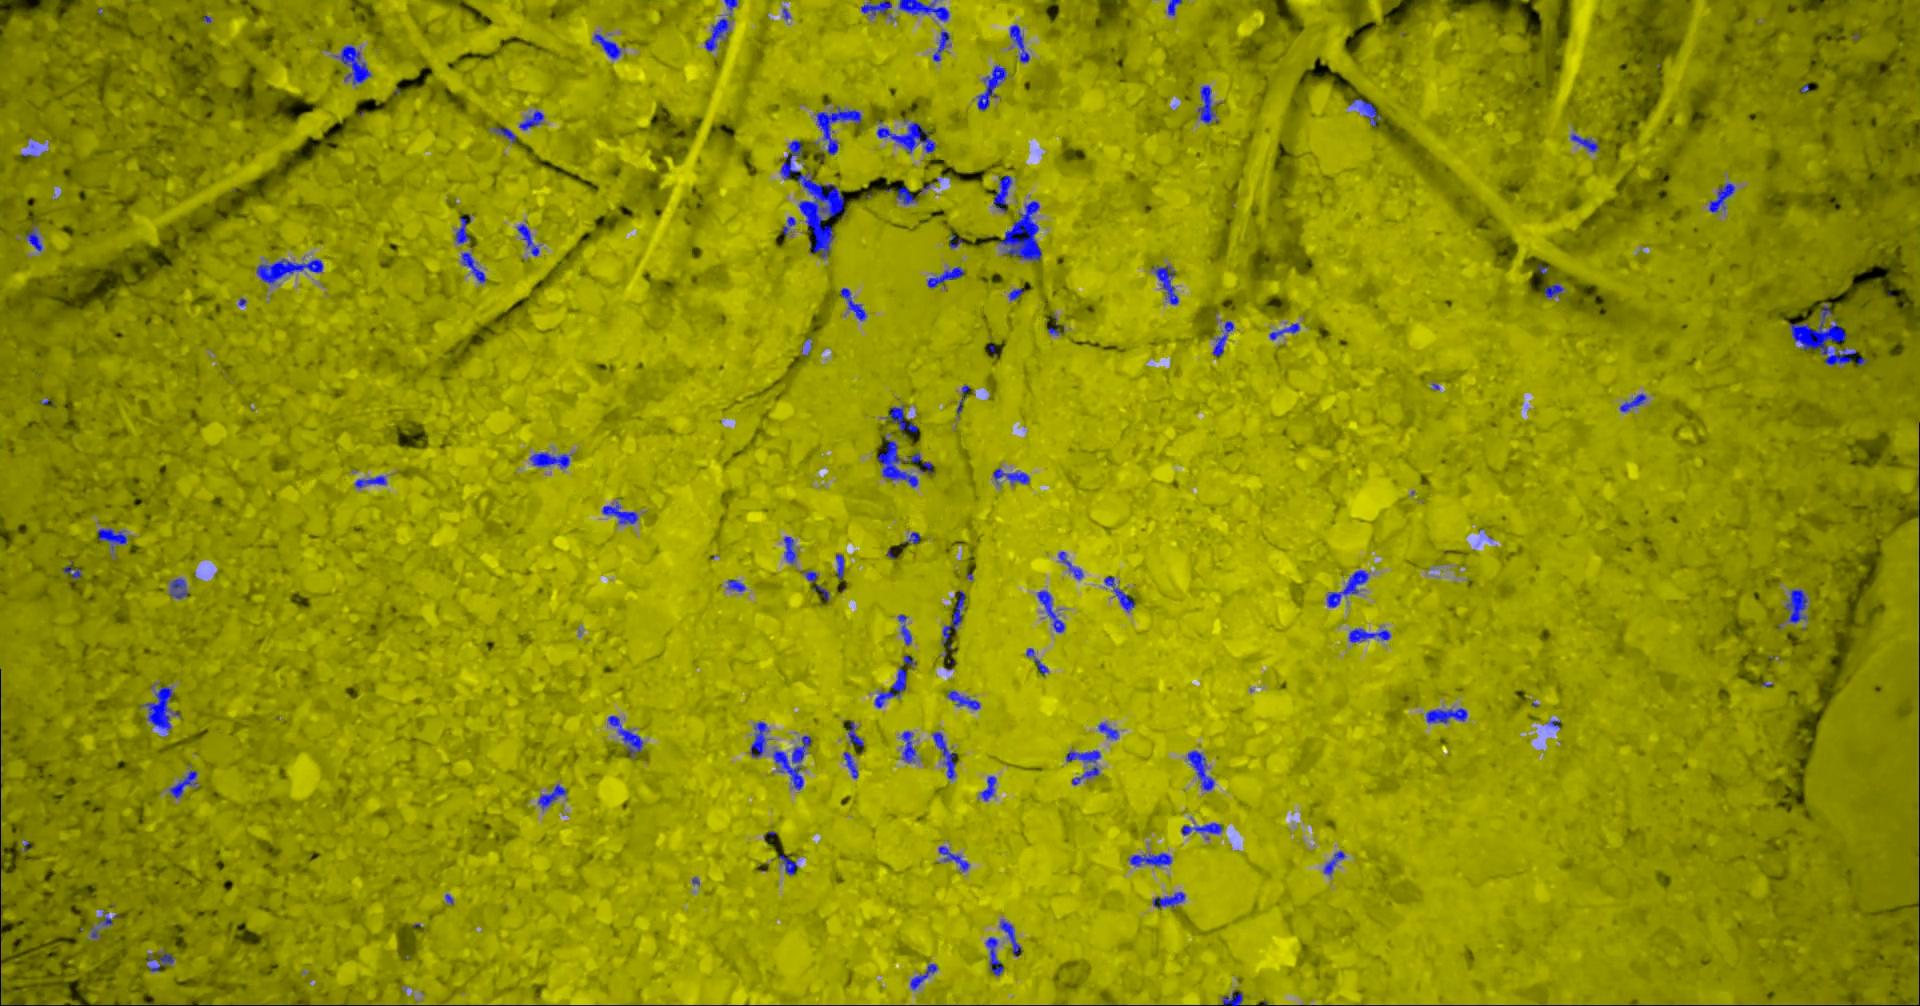ant: (817, 105, 863, 154), (879, 439, 923, 486), (775, 735, 813, 789), (877, 121, 937, 152), (141, 685, 182, 730), (258, 258, 324, 283), (1328, 569, 1370, 607), (337, 44, 373, 84), (610, 715, 644, 757), (978, 64, 1007, 111), (943, 591, 968, 645), (876, 667, 908, 708), (1067, 749, 1102, 784), (933, 730, 957, 779), (1039, 589, 1065, 633), (1189, 749, 1217, 790), (900, 0, 951, 22), (1105, 575, 1137, 610), (1153, 265, 1180, 304), (888, 405, 919, 434), (841, 287, 869, 320), (1351, 98, 1383, 126), (940, 845, 971, 871), (1001, 920, 1023, 956), (1199, 85, 1220, 123), (928, 265, 966, 287), (170, 770, 199, 798), (538, 782, 569, 809), (706, 18, 730, 51), (1011, 24, 1031, 62), (1710, 182, 1736, 212), (1214, 320, 1236, 356), (603, 502, 639, 523), (1787, 589, 1810, 622), (910, 963, 938, 989), (463, 251, 488, 282), (518, 224, 541, 255), (596, 33, 623, 58), (98, 528, 128, 551), (987, 937, 1004, 976), (1060, 551, 1084, 579), (996, 175, 1013, 212), (1427, 708, 1469, 723), (752, 721, 770, 757), (949, 690, 982, 709), (531, 452, 571, 467), (1154, 890, 1186, 909), (1130, 852, 1173, 866), (1350, 627, 1392, 641), (994, 467, 1031, 483), (1324, 850, 1347, 874), (1270, 323, 1302, 339), (1183, 822, 1224, 835), (1622, 392, 1648, 412), (149, 951, 175, 970), (935, 30, 951, 61), (1572, 133, 1600, 151), (902, 730, 917, 762), (456, 216, 472, 245), (862, 0, 893, 15), (521, 111, 545, 130), (25, 226, 43, 251), (957, 384, 971, 414), (899, 614, 913, 644), (982, 775, 998, 800), (495, 126, 518, 144), (844, 751, 858, 779), (898, 185, 918, 205), (850, 720, 865, 746), (780, 854, 799, 874), (1098, 721, 1120, 739), (356, 475, 389, 486), (171, 578, 189, 598), (785, 536, 797, 563), (1224, 989, 1244, 1005), (63, 563, 83, 578), (100, 912, 121, 926), (783, 216, 797, 235), (1545, 285, 1564, 297), (728, 579, 747, 591), (1170, 0, 1183, 15), (725, 0, 739, 15), (919, 461, 935, 475), (950, 232, 964, 246), (837, 553, 844, 578), (905, 531, 922, 542), (1010, 287, 1023, 300), (803, 572, 819, 582)
